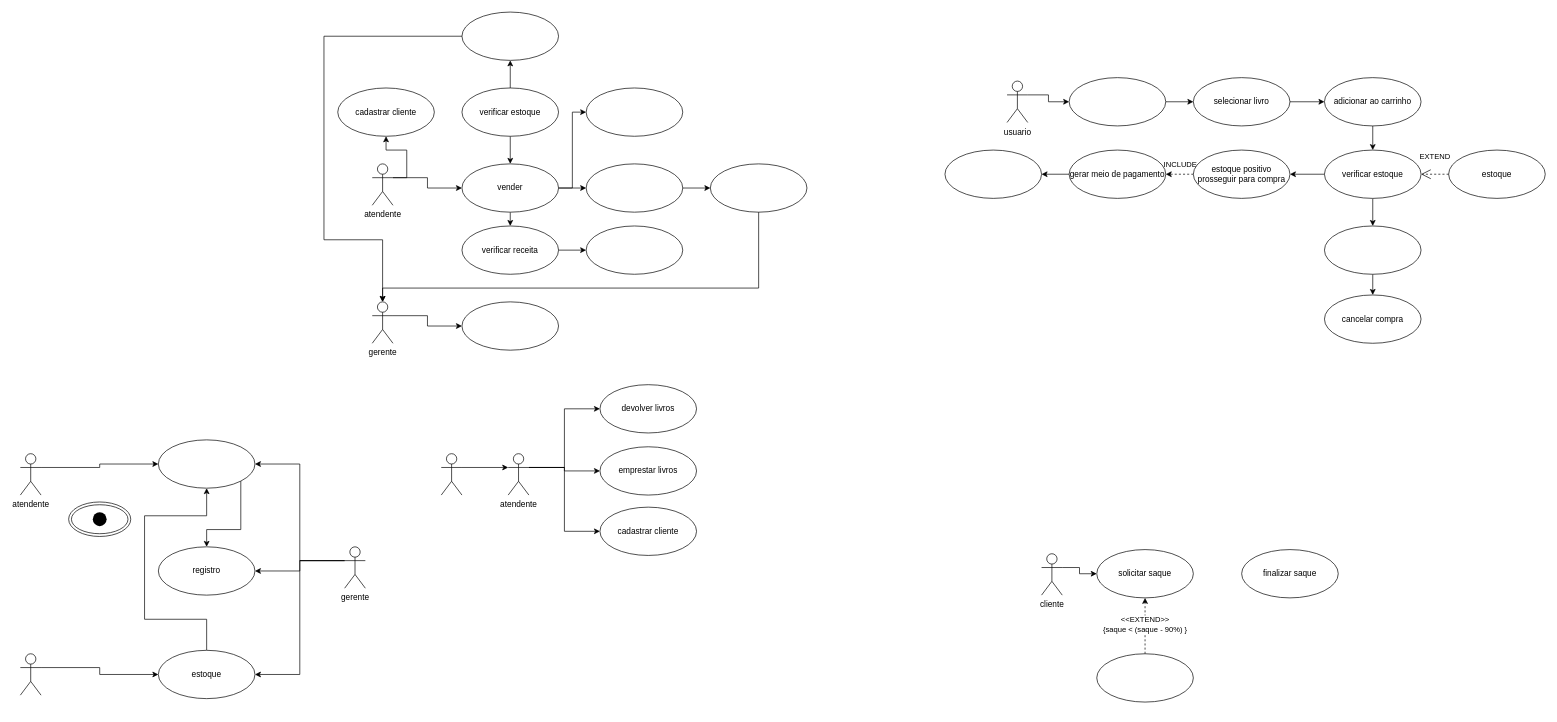
This 1557x722 diagram has some shape labels left out. Here are the shapes that lost their labels. From the top down, the centre of each, then its label:
[510,35]: gerar relatório de estoque
[634,111]: registrar cartão de crédito/débito
[1117,101]: buscar livro
[634,187]: gerar nota fiscal
[758,187]: gerar relatório de vendas
[993,173]: pagamento recebido enviar livro(s)
[634,249]: registrar cliente paciente
[1372,249]: estoque zerado avisar sobre erro
[510,325]: registrar produto
[206,463]: vendas
[451,474]: leitor
[30,674]: estoquista
[1144,677]: solicitar autorização adicional
